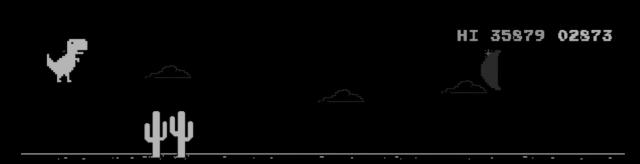cactus: (170, 111, 193, 157), (145, 111, 166, 157)
